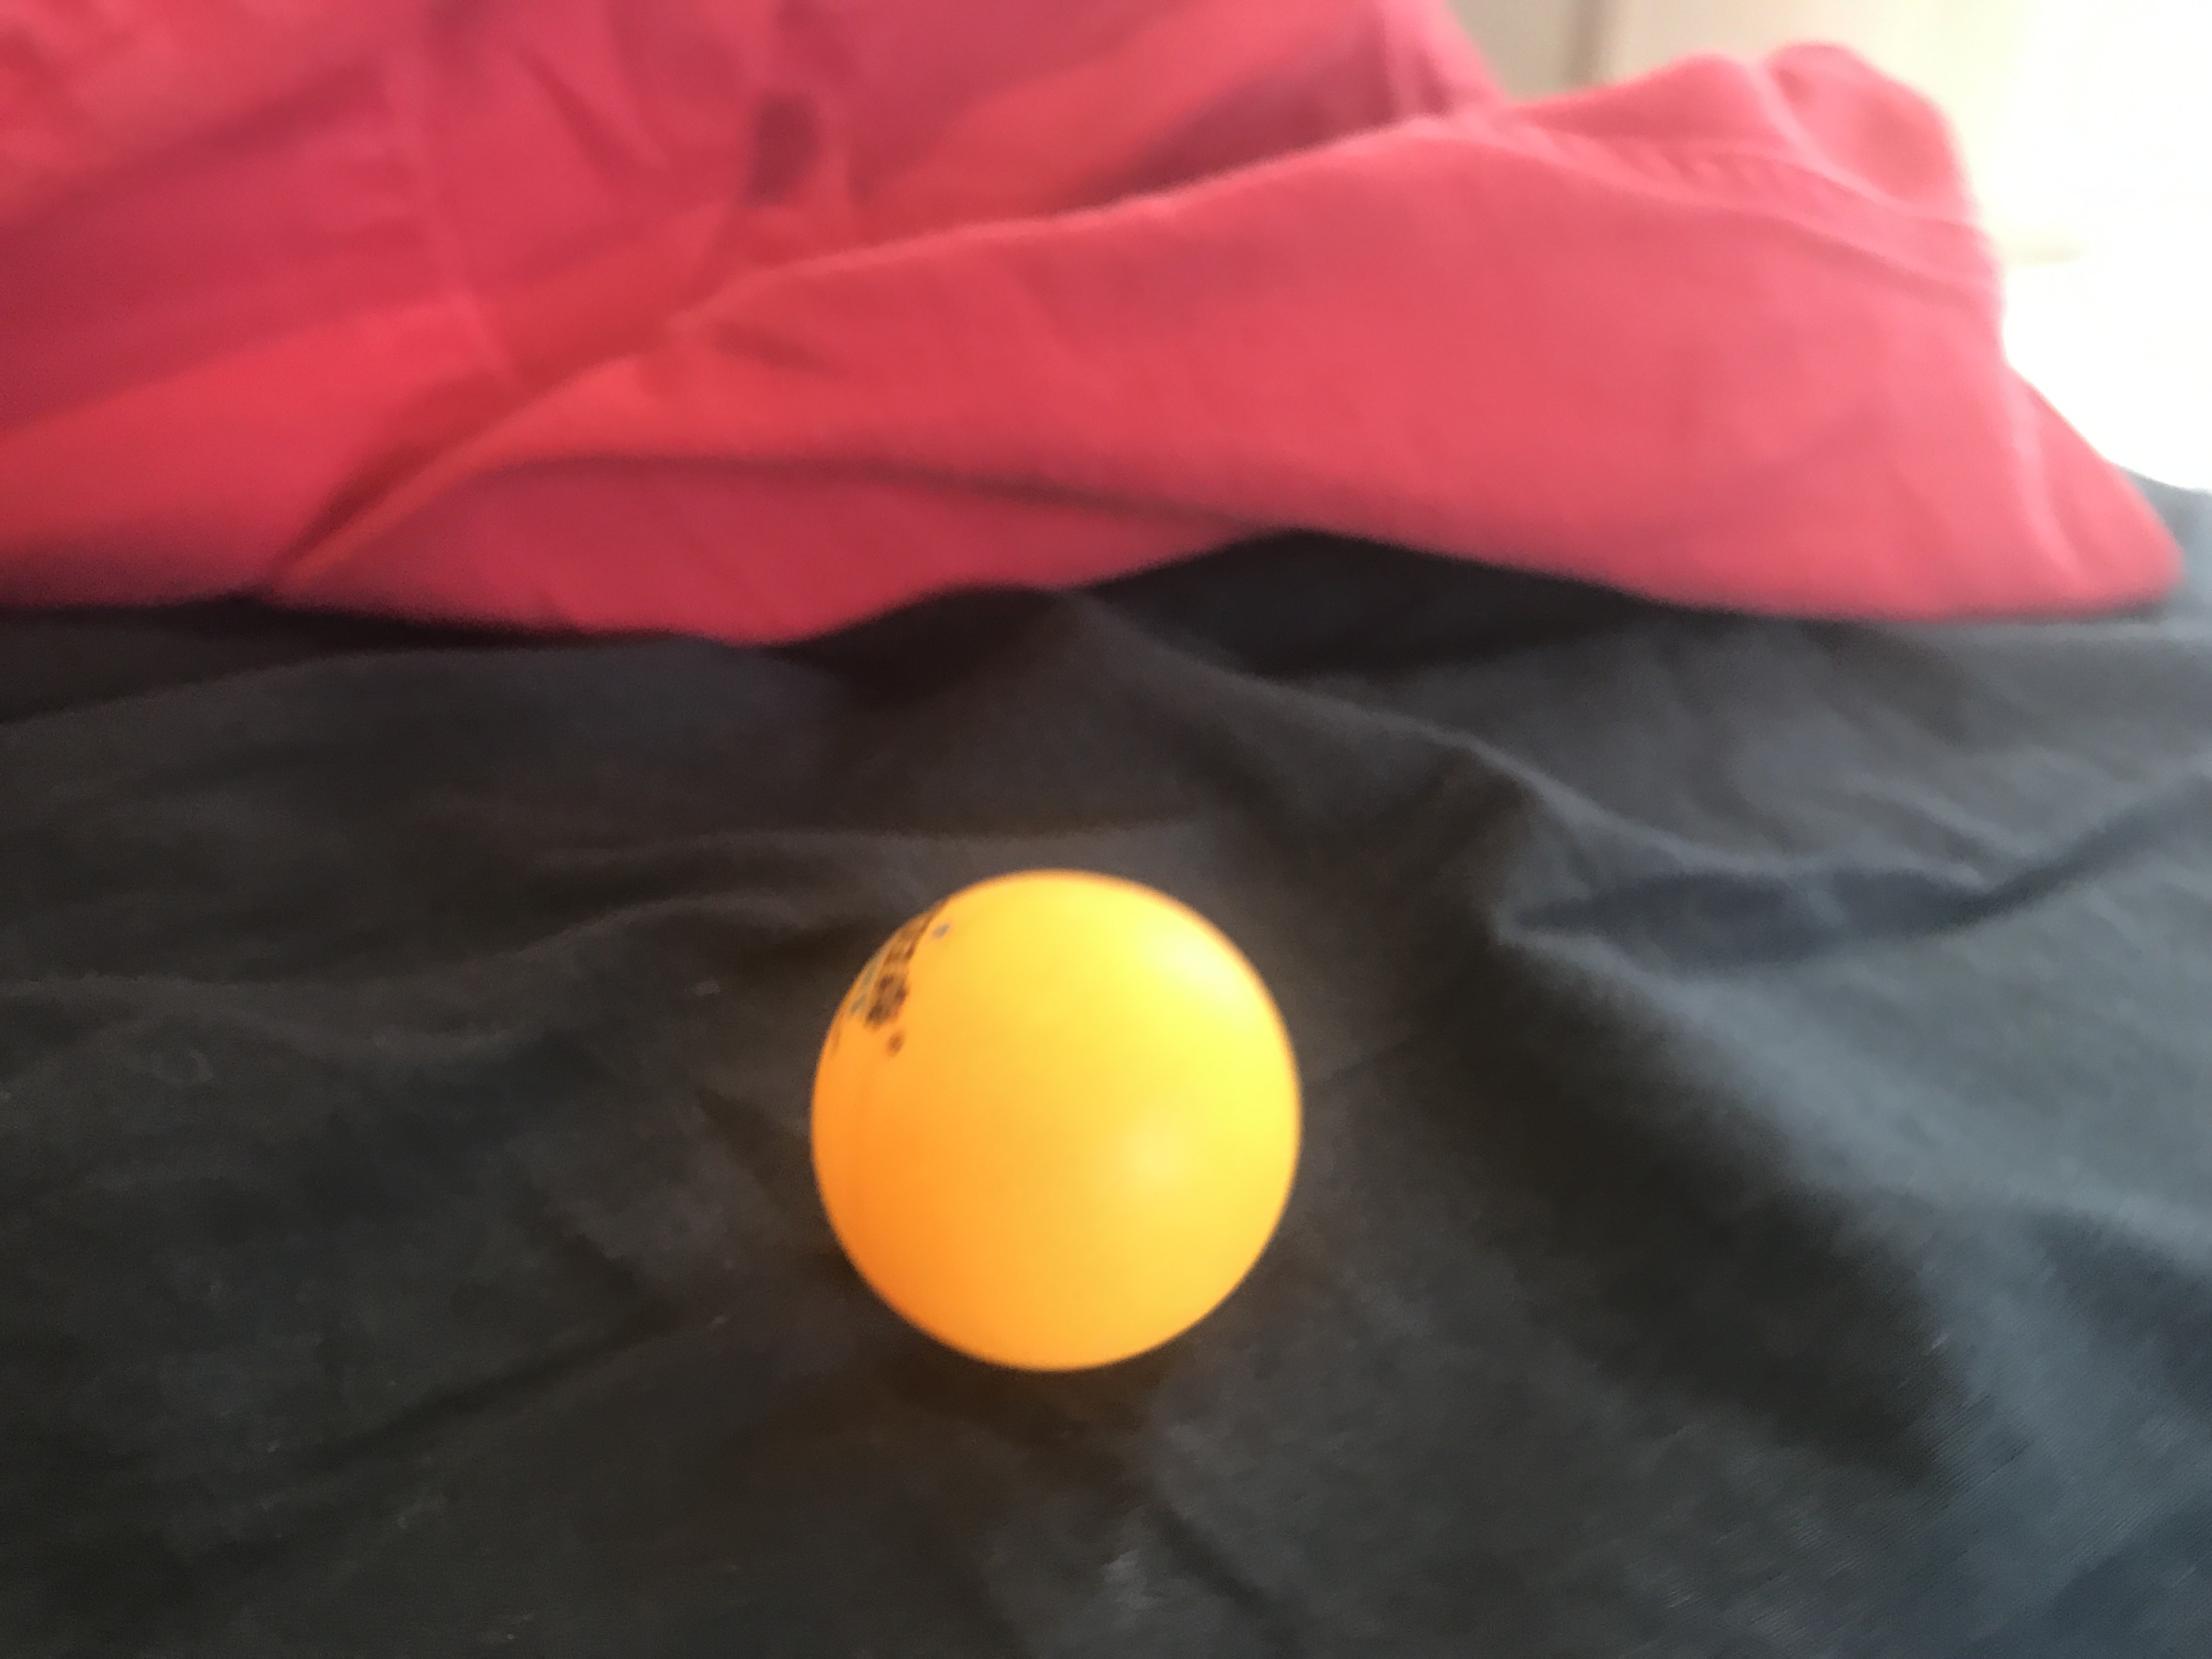pp: (772, 864, 1320, 1392)
